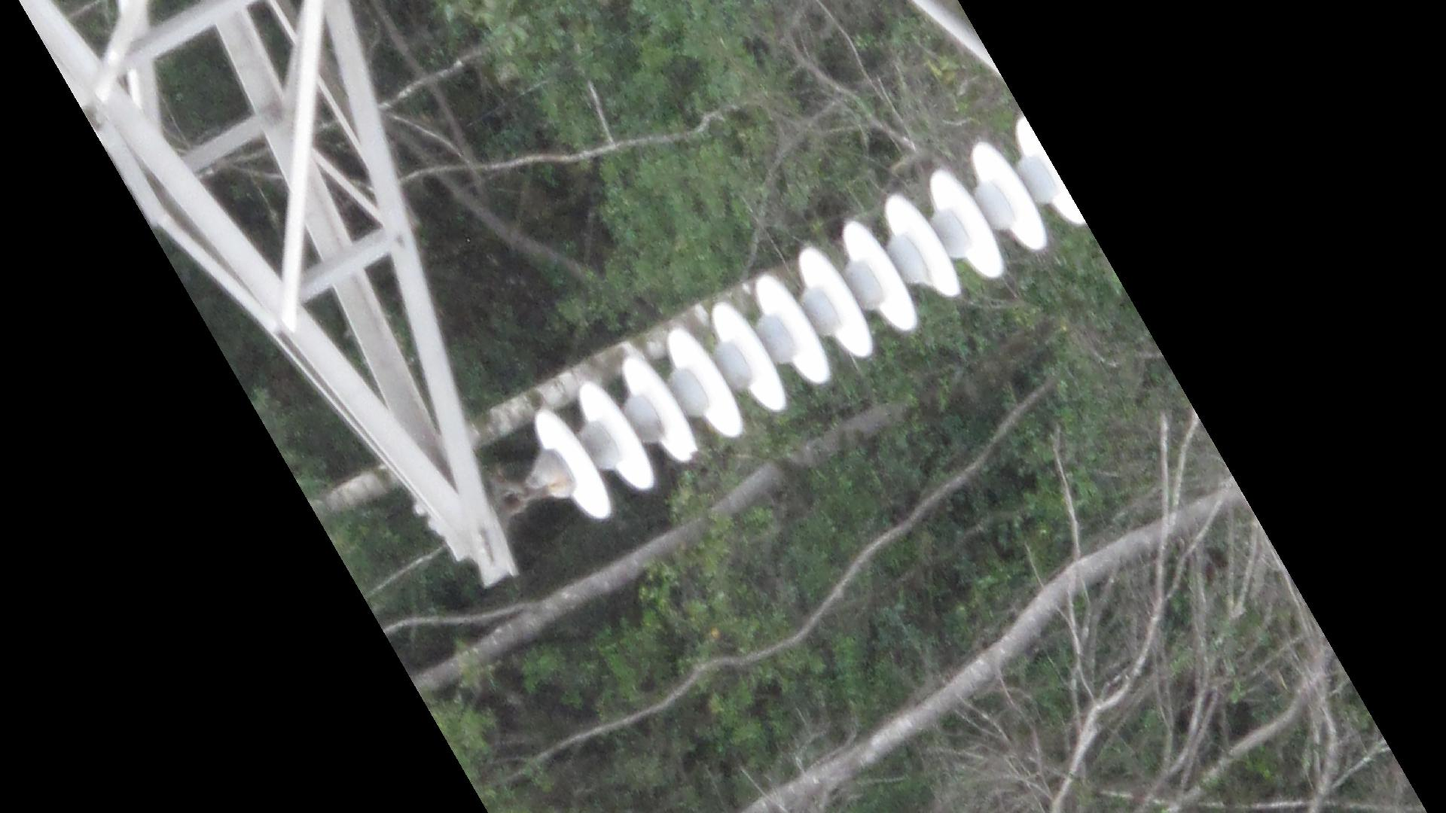insulator: (525, 110, 1084, 529)
insulator_breakage: (668, 436, 706, 470)
